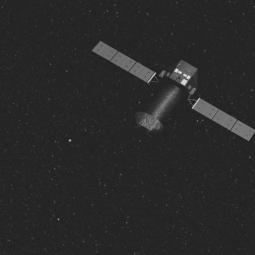xmm_newton: (93, 37, 255, 146)
